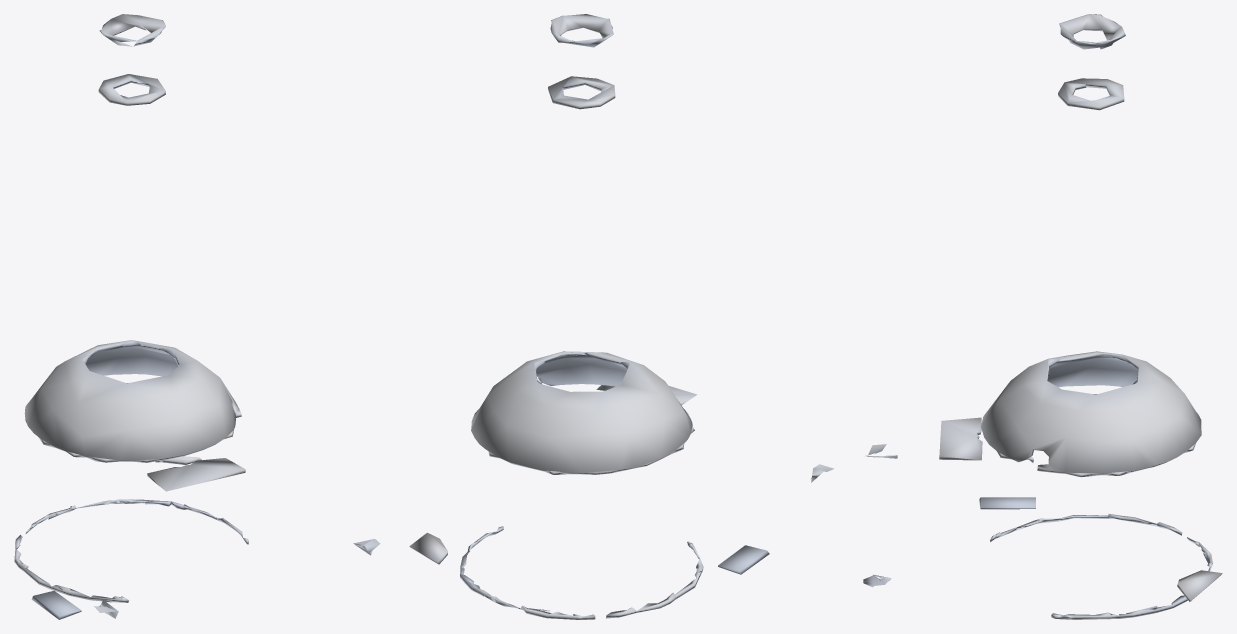
Rendered from furnace.snow.glb.
The picture shows the model from 3 angles, left to right: view 1: azimuth 30°, elevation 25°; view 2: azimuth 150°, elevation 25°; view 3: azimuth 270°, elevation 25°; orthographic projection. The views are drawn at different scales.
Parts seen in each view (by area): view 1: town.furnace.snow.mesh, tier.6; view 2: town.furnace.snow.mesh, tier.6, tier.2; view 3: town.furnace.snow.mesh, tier.6, tier.2.
Boxes of the visible parts, bbox=[...] form: town.furnace.snow.mesh: bbox=[14, 74, 248, 619]; tier.6: bbox=[99, 14, 165, 46]; town.furnace.snow.mesh: bbox=[460, 76, 769, 619]; tier.6: bbox=[550, 14, 613, 47]; tier.2: bbox=[409, 532, 447, 564]; town.furnace.snow.mesh: bbox=[939, 78, 1212, 619]; tier.6: bbox=[1059, 14, 1125, 49]; tier.2: bbox=[1177, 570, 1222, 601].
Bounding box in the file's own units: 5.21 × 9.34 × 5.61.
